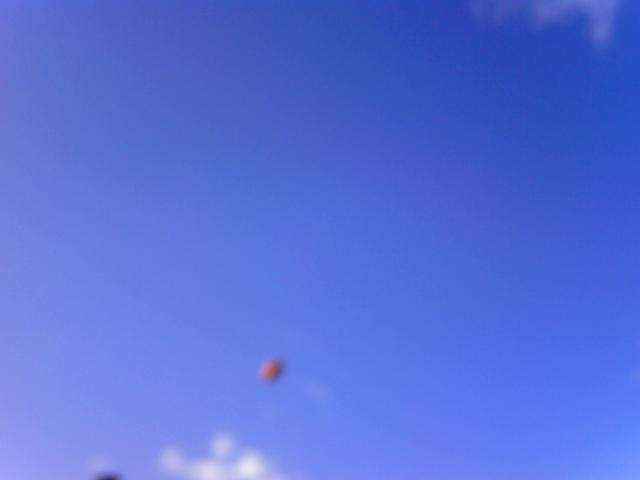football: (255, 356, 287, 386)
